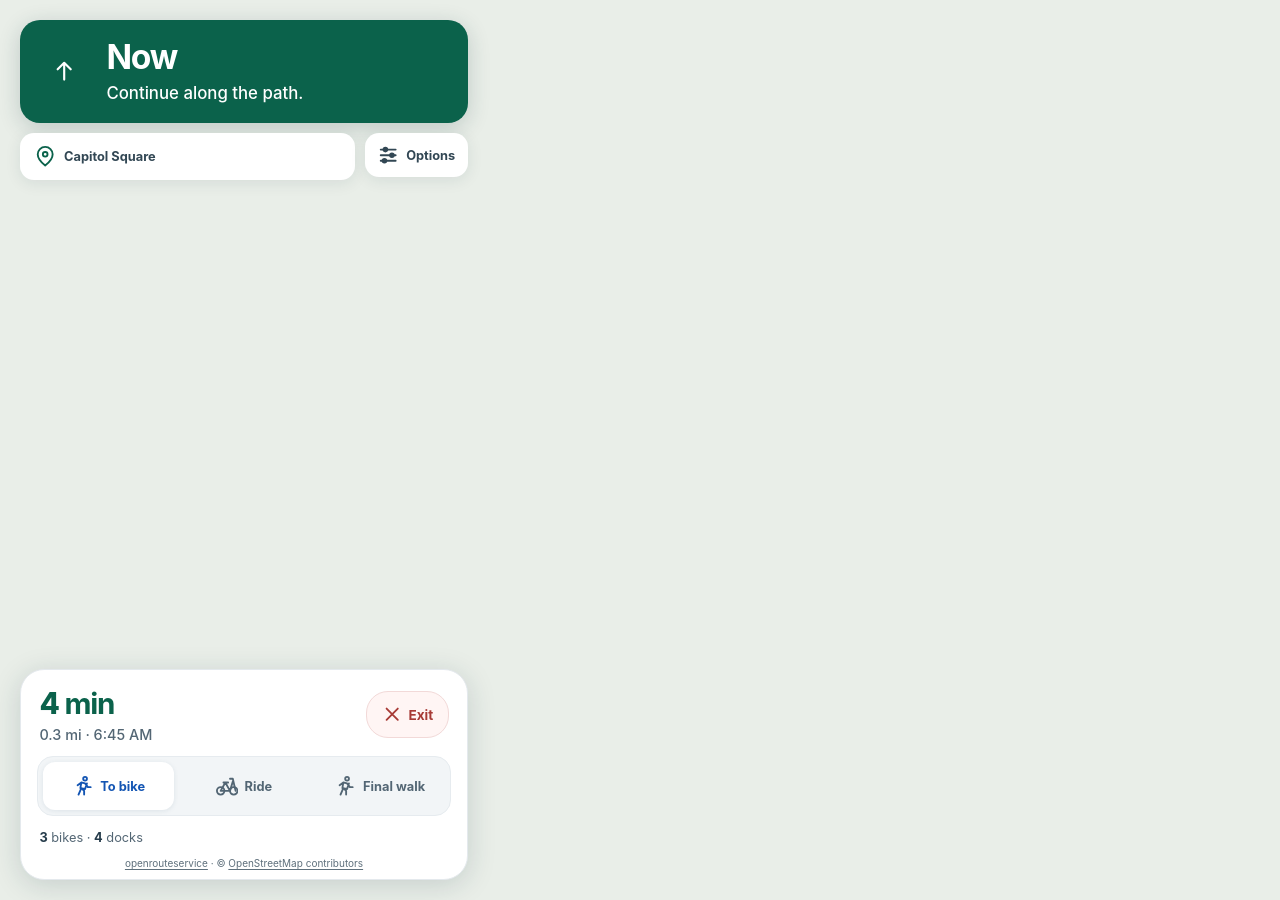
guided navigation screen › lets the rider jump directly to any leg and back without a location fix
The width and height of the screenshot is (1280, 900).
Click the button with aria-label "Walk to destination".
click(380, 786)  # box [314, 762, 445, 810]
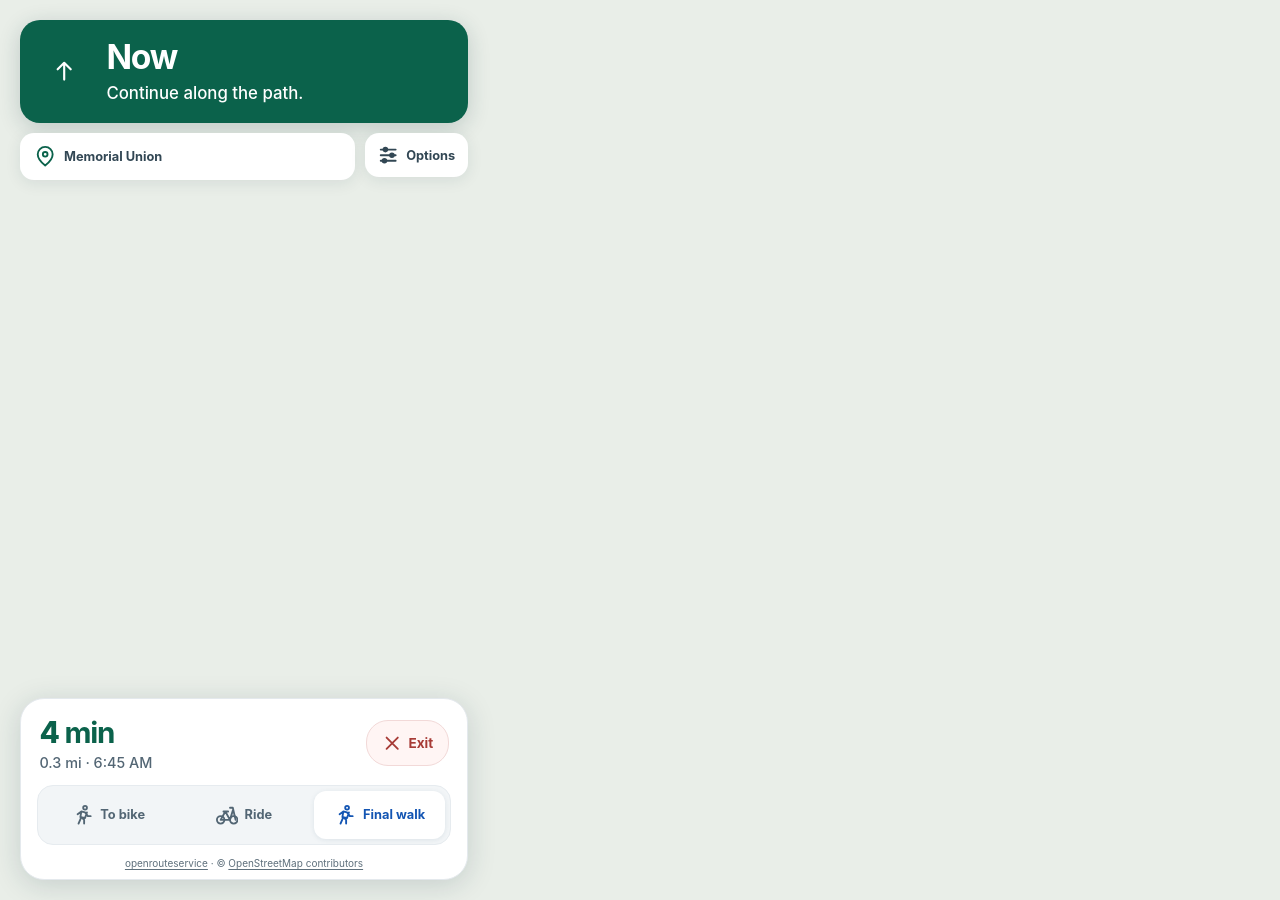
Now the element with test id "navigation-target" reads "Memorial Union", box [64, 149, 162, 164]
Click the button with aria-label "Ride to drop-off".
click(244, 815)  # box [178, 791, 309, 839]
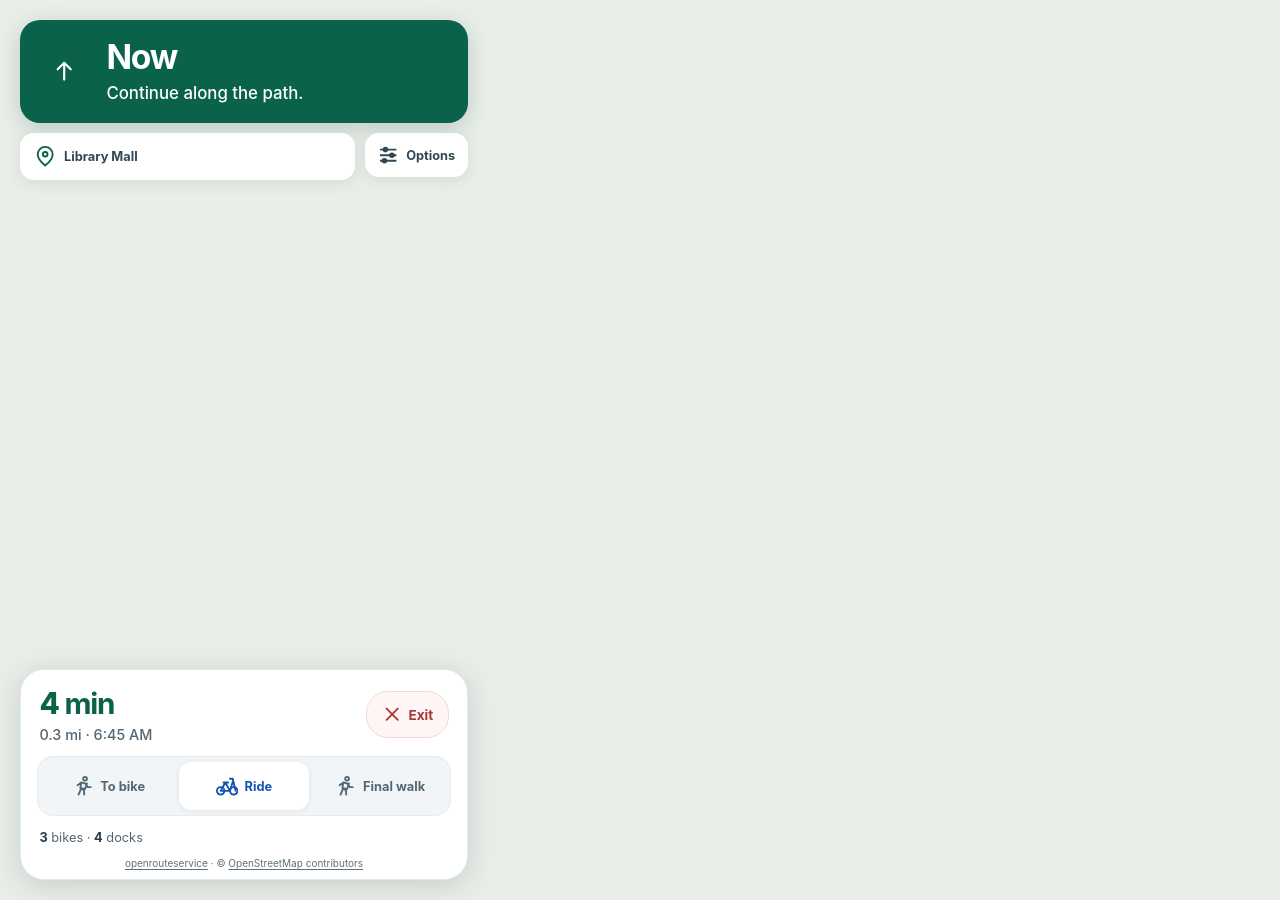
Now the element with test id "navigation-target" reads "Library Mall", box [64, 149, 138, 164]
Click the button with aria-label "Walk to pickup".
click(108, 786)  # box [43, 762, 174, 810]
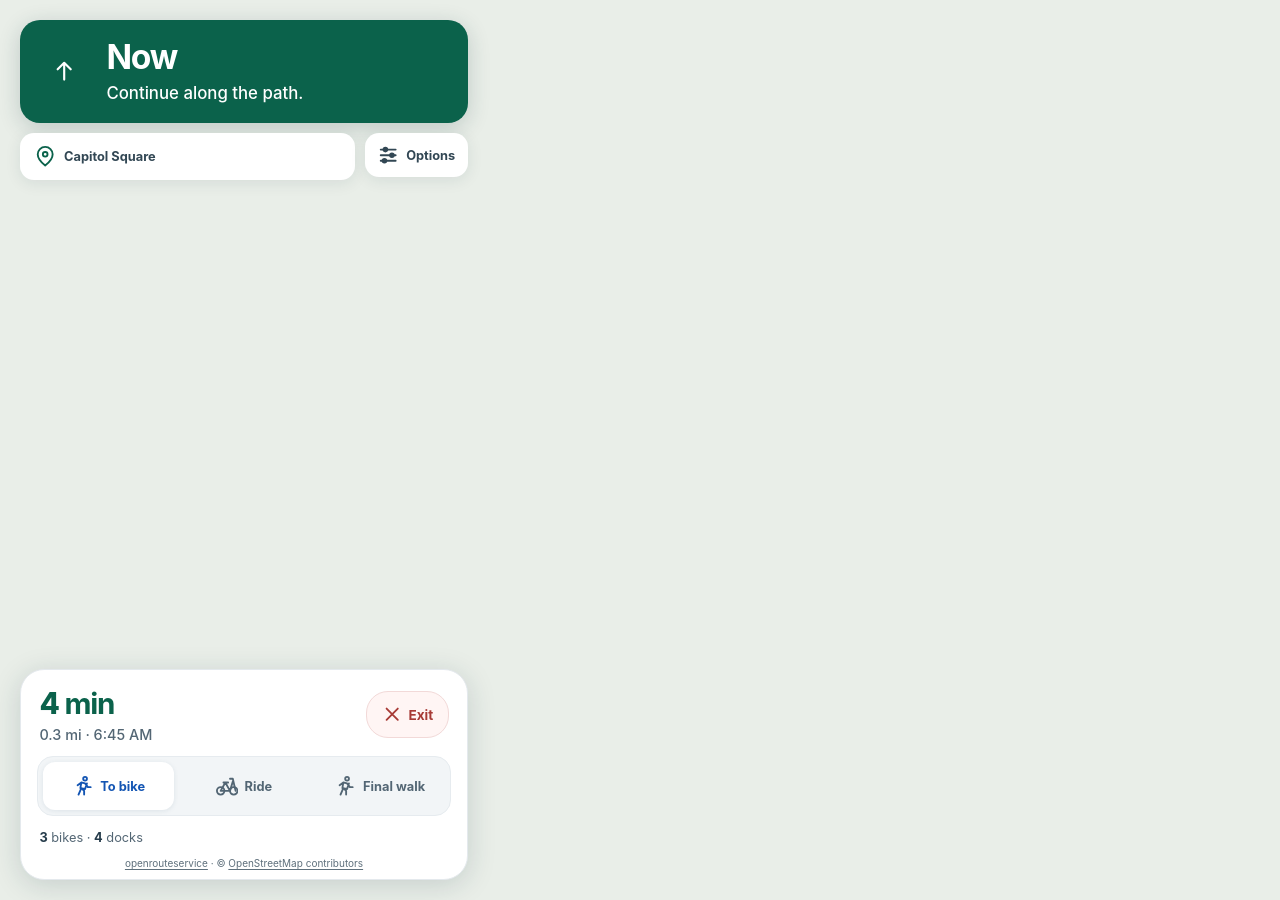
Now the element with test id "navigation-target" reads "Capitol Square", box [64, 149, 156, 164]
